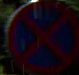No waiting: (4, 0, 78, 74)
